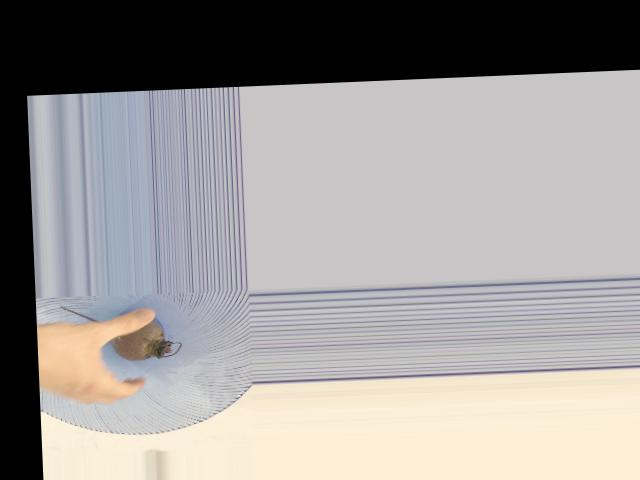beet: (61, 300, 183, 363)
